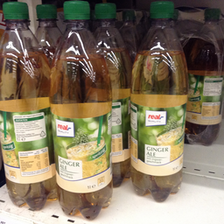soda: (53, 2, 113, 222), (130, 2, 187, 202), (1, 1, 53, 211)
